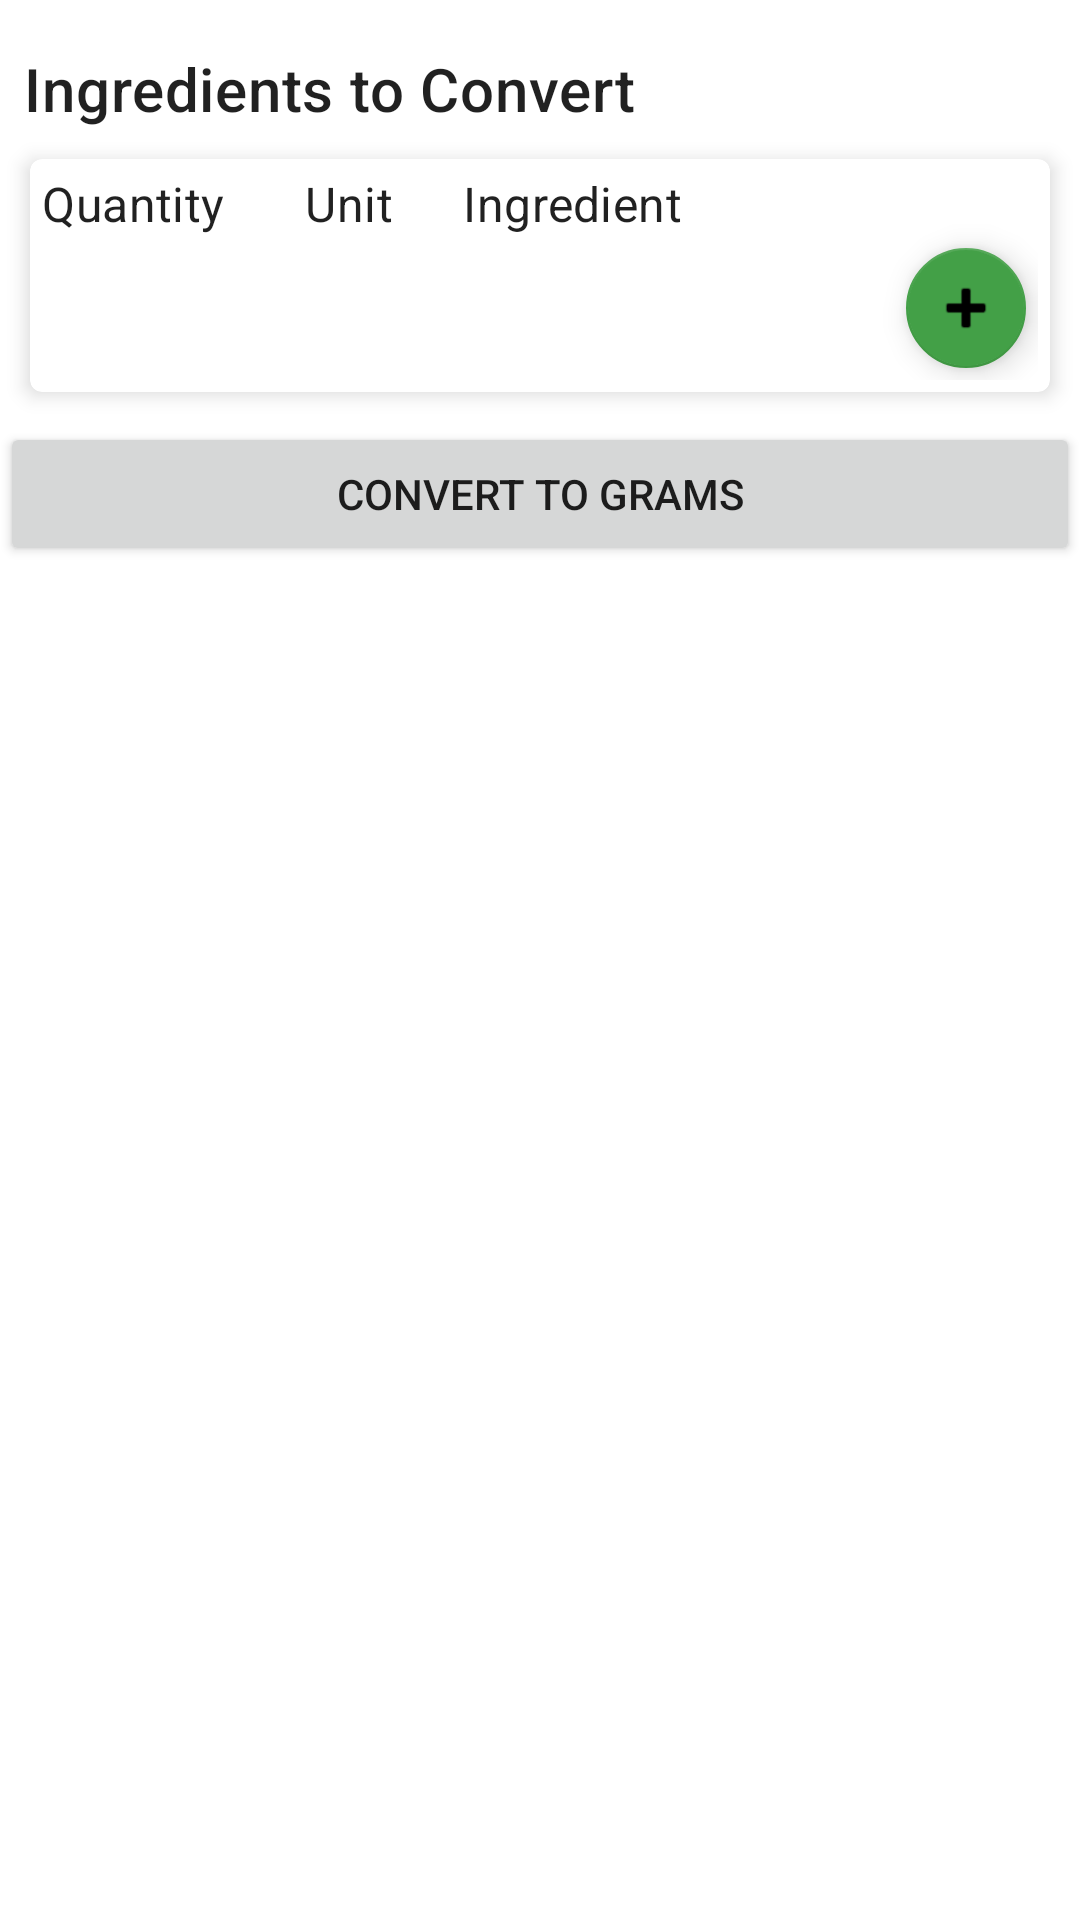

Where icons sit on this 1080 × 1920 app screen, as (x1, y1, x2, y2):
add: (906, 248, 1028, 369)
